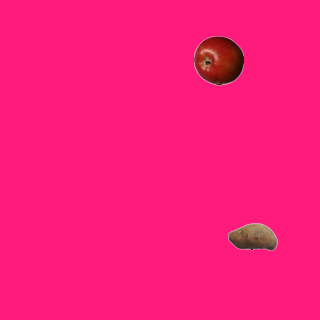Apple Braeburn: (193, 35, 243, 85)
Potato Sweet: (227, 211, 277, 261)
